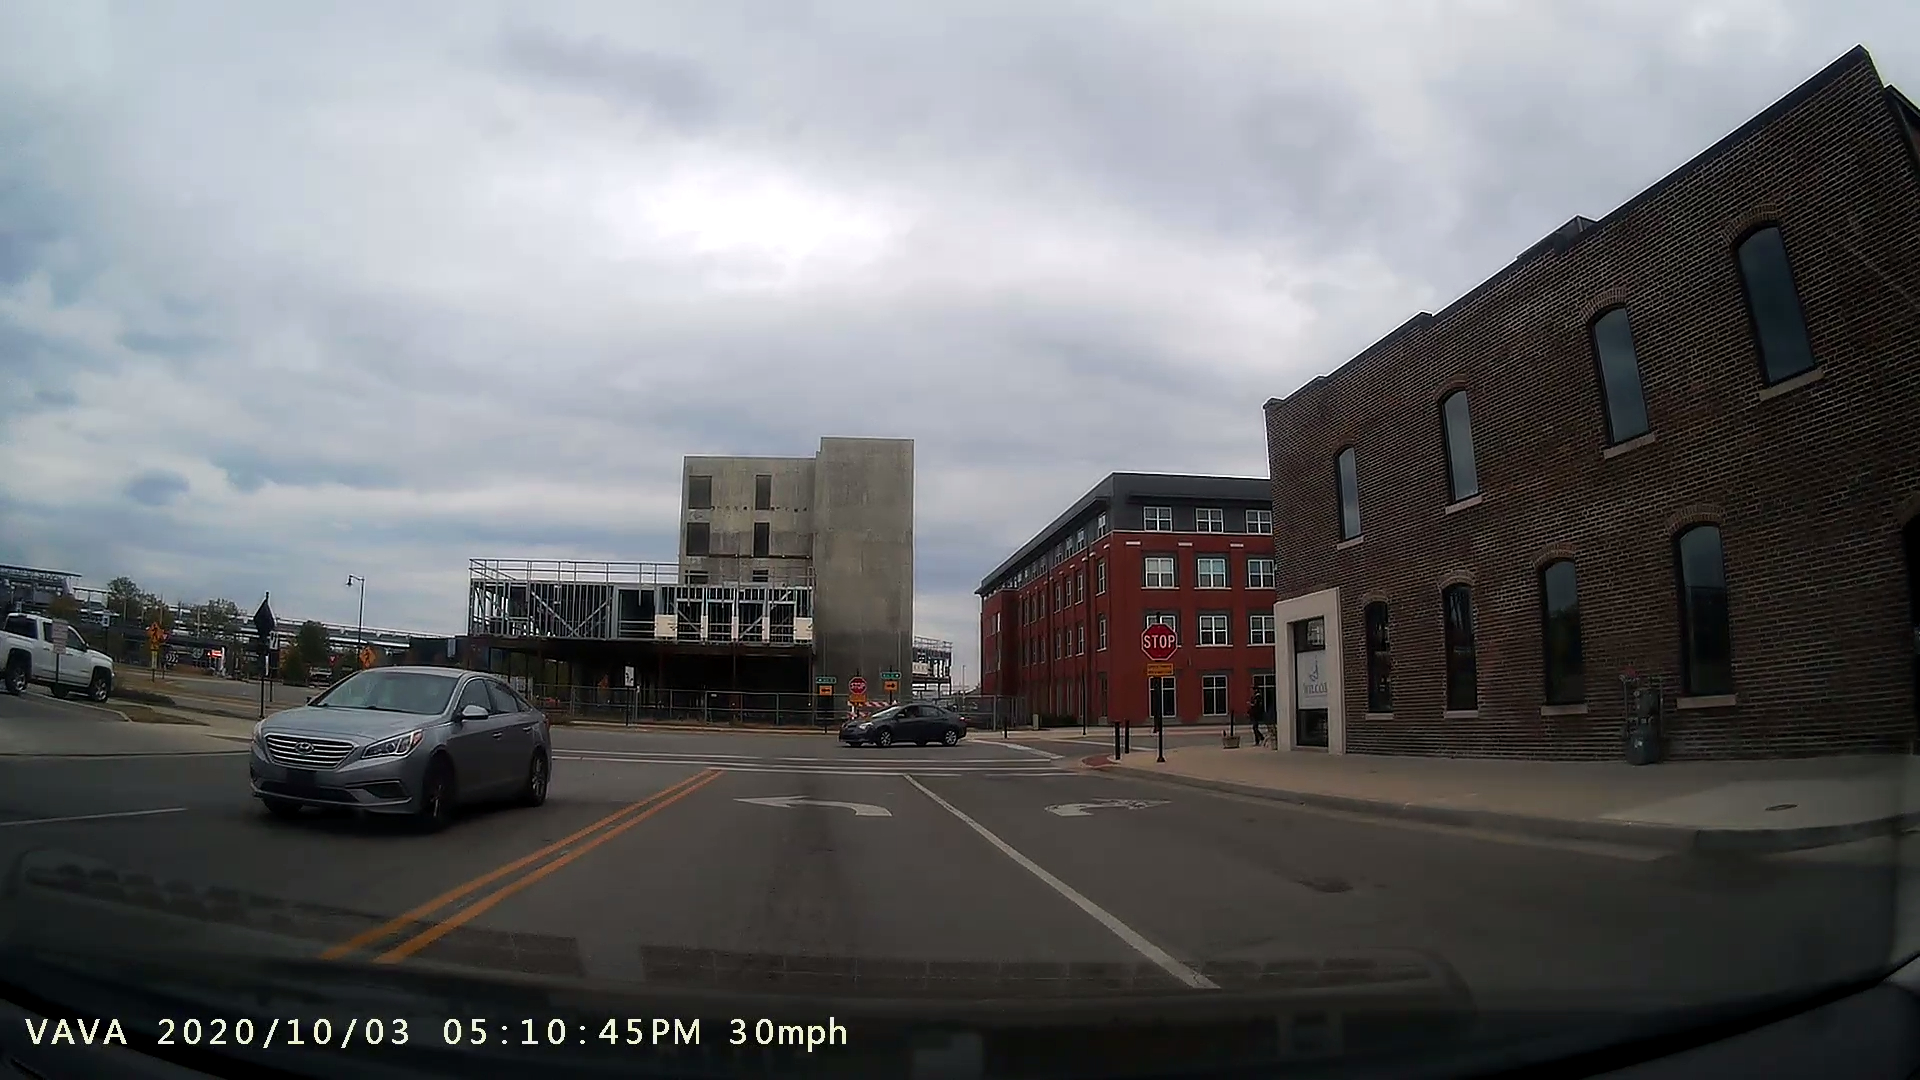left_turn: (724, 781, 899, 832)
right_turn: (1035, 779, 1183, 835)
